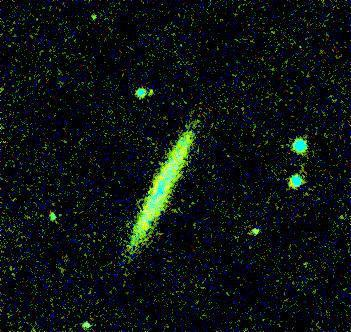star: (136, 73, 166, 103)
